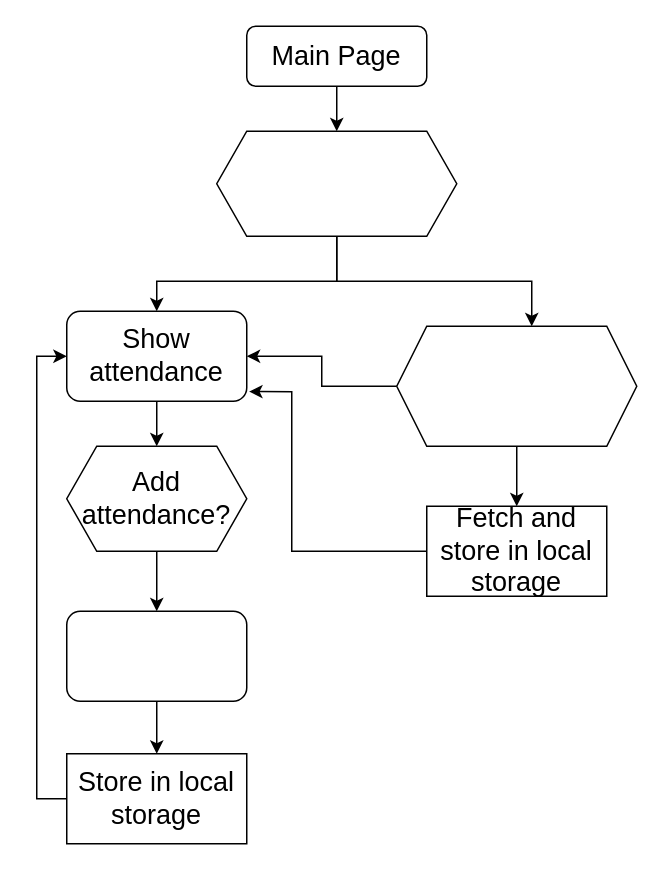
The diagram is 663 pixels wide and 870 high, and some of its shapes have lost their labels. The centre of each missing label's shape, as x and y in pixels:
"Add attendance" goes at (x=156, y=655).
"Any attendance records in local storage?" goes at (x=336, y=183).
"Any attendance records in online storage?" goes at (x=516, y=385).
